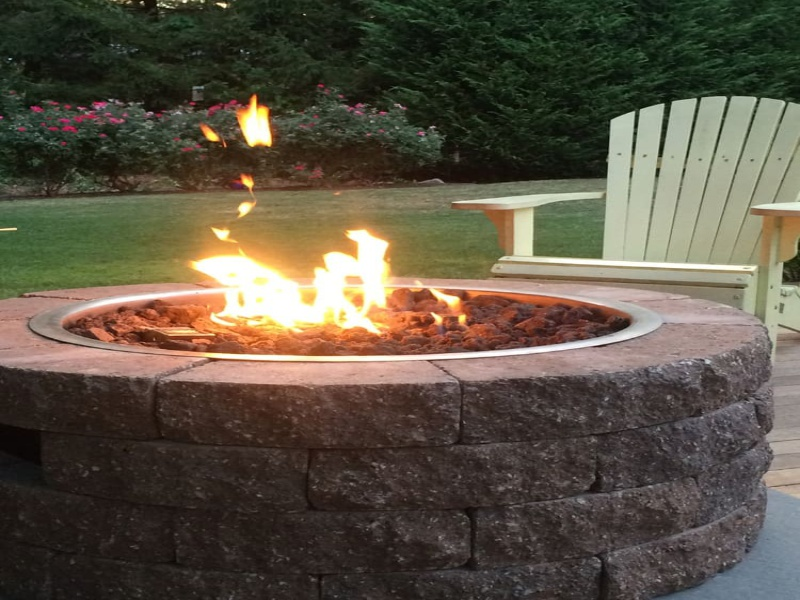fire: (190, 224, 393, 337), (231, 95, 276, 146), (238, 173, 256, 220), (197, 120, 220, 146)
